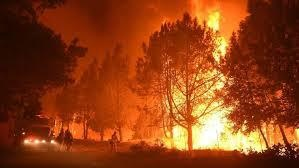fire: (157, 5, 250, 156), (22, 131, 56, 147)
